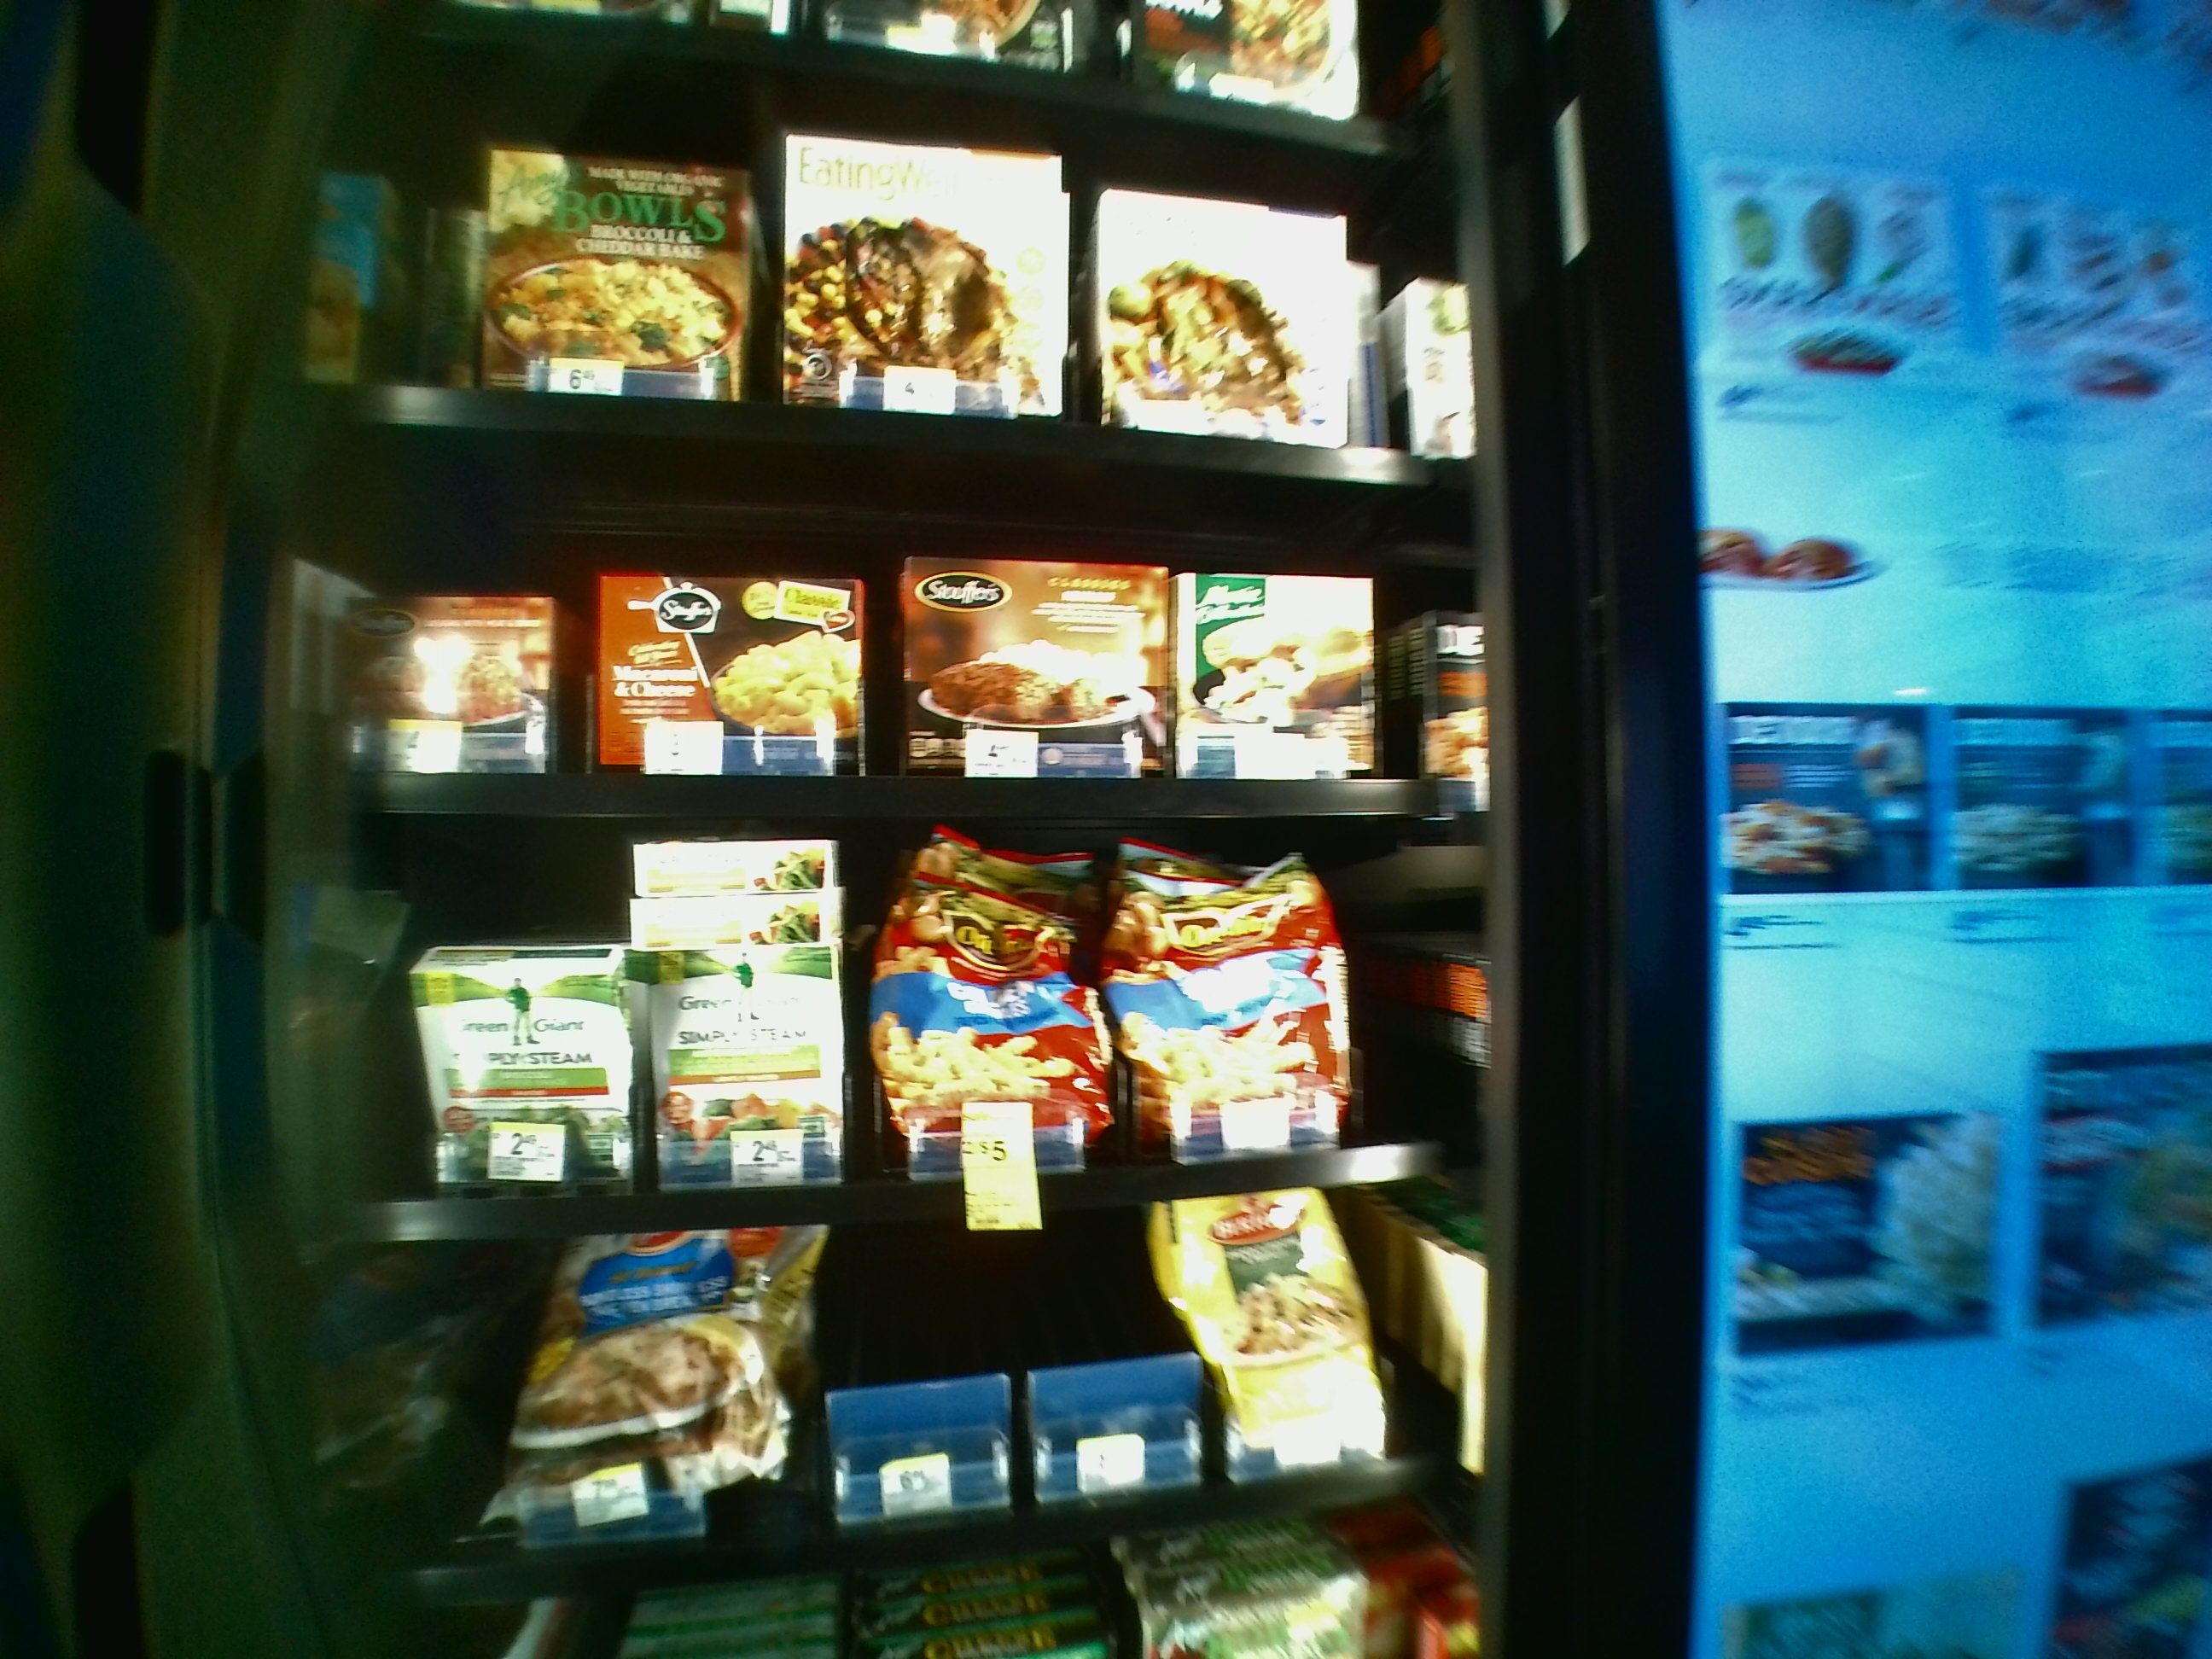shelf: (310, 836, 1479, 1248), (307, 432, 1470, 819)
